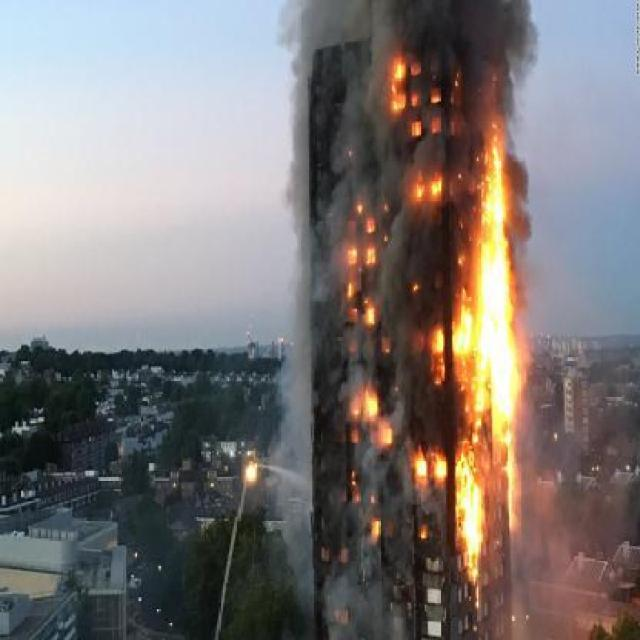Fire: (354, 43, 536, 585)
